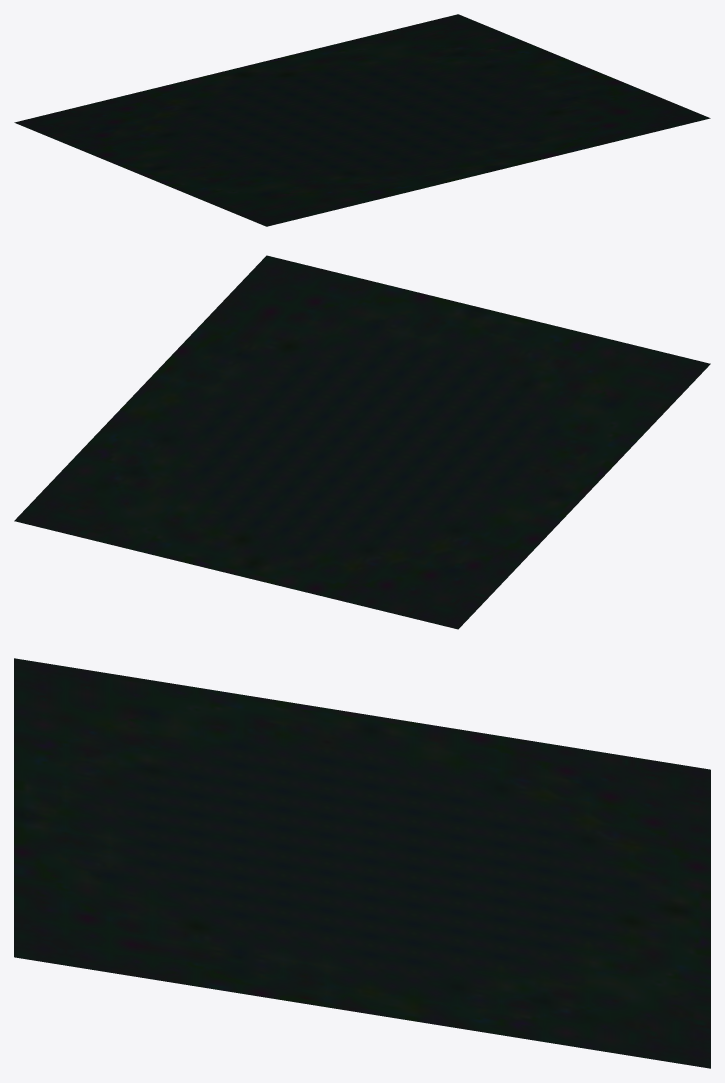
The model's file is Shadow #041915.fbx.
3 views of the same model, one above another, from view 1: azimuth 30°, elevation 25°; view 2: azimuth 150°, elevation 25°; view 3: azimuth 270°, elevation 25° (orthographic). The views are drawn at different scales.
Visible parts, largest first — view 1: Shadow; view 2: Shadow; view 3: Shadow.
Boxes of the visible parts, x1,y1,x2,y2 form: Shadow: (14,14,710,226); Shadow: (14,255,710,629); Shadow: (14,658,710,1068).
Bounding box in the file's own units: 0.4659 × 0.0809 × 0.4588.
